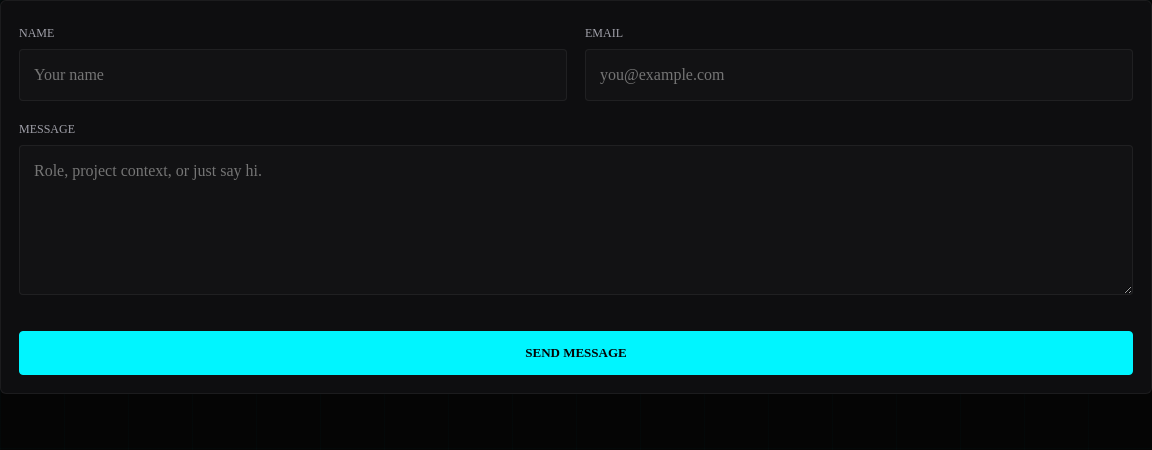
Test: ContactForm › should block sending until the spam check is completed when Turnstile is enabled
The image size is (1152, 450).
In the field labelled "Name": (293, 75) [19,49,567,101], type "Huy"
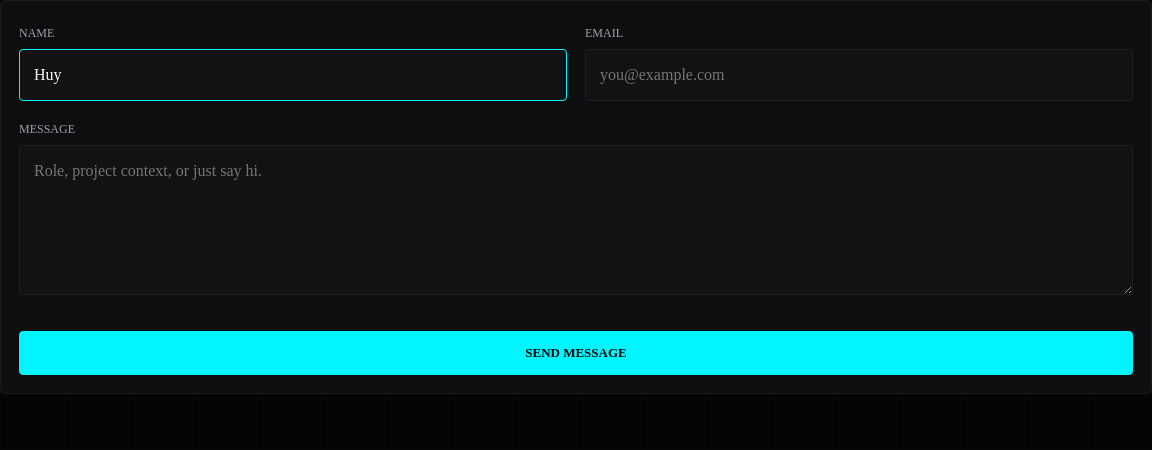
In the field labelled "Email": (859, 75) [585,49,1133,101], type "huy@example.com"
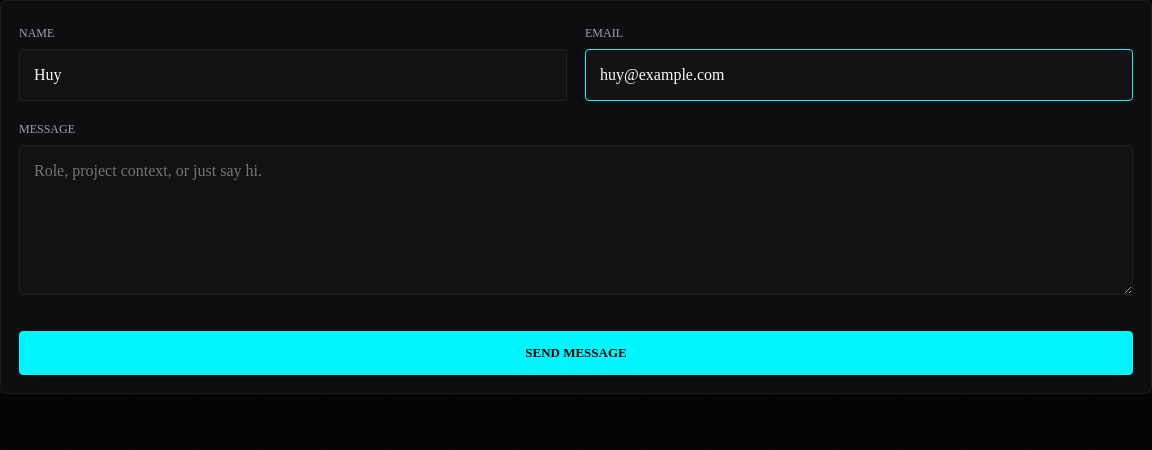
In the text box labelled "Message": (576, 220) [19,145,1133,295], type "Hi"
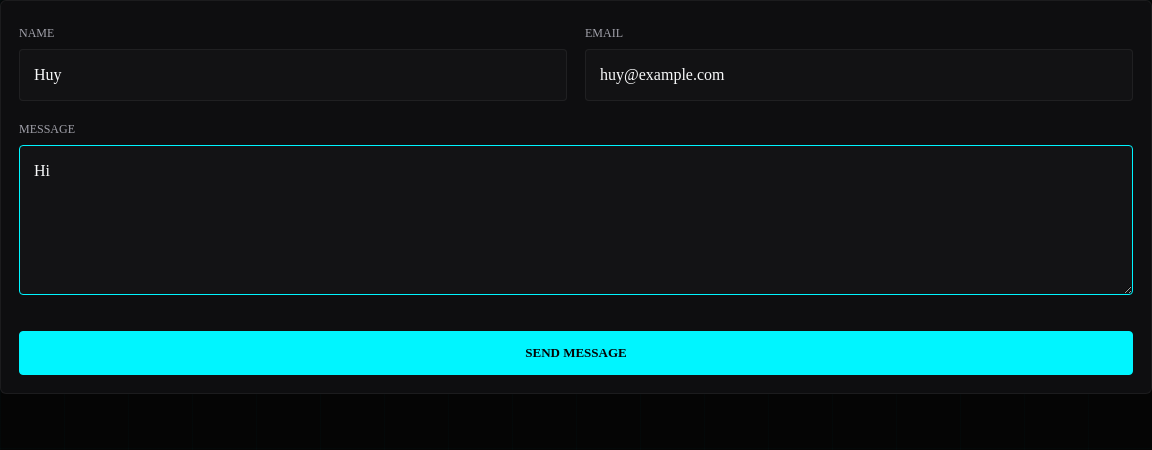
Click the button "Send message": (576, 353) [19,331,1133,375]
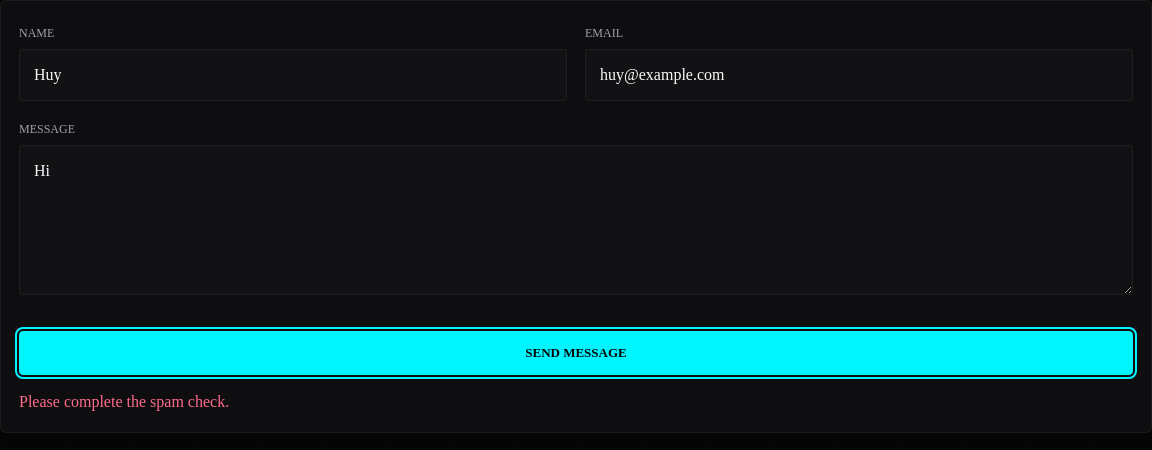
Now the message reads "Please complete the spam check.", box [19,393,229,410]
